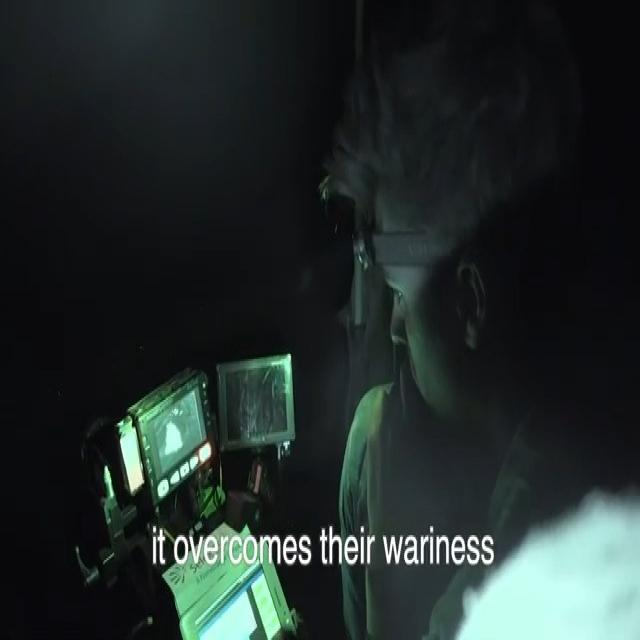device: (39, 287, 317, 640)
human: (301, 7, 640, 640)
